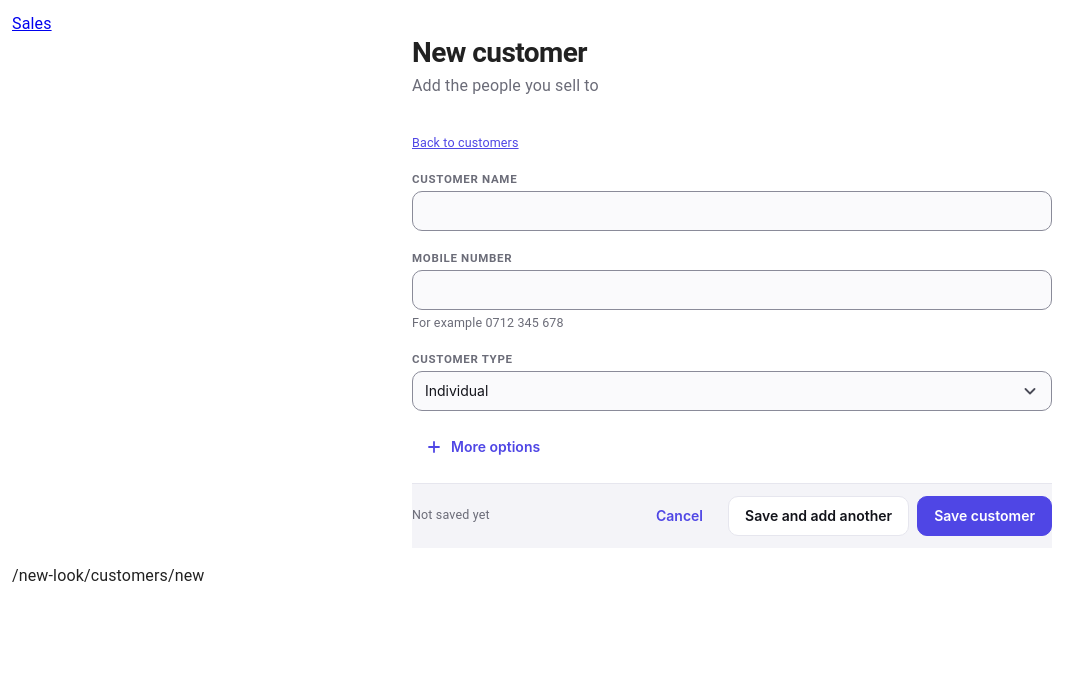
Test: what must be filled in › a mobile number that is not Kenyan is explained, with an example
Type "Amina Hassan" into the field labelled "Customer name". click: x=732, y=211
box: [413, 192, 1051, 230]
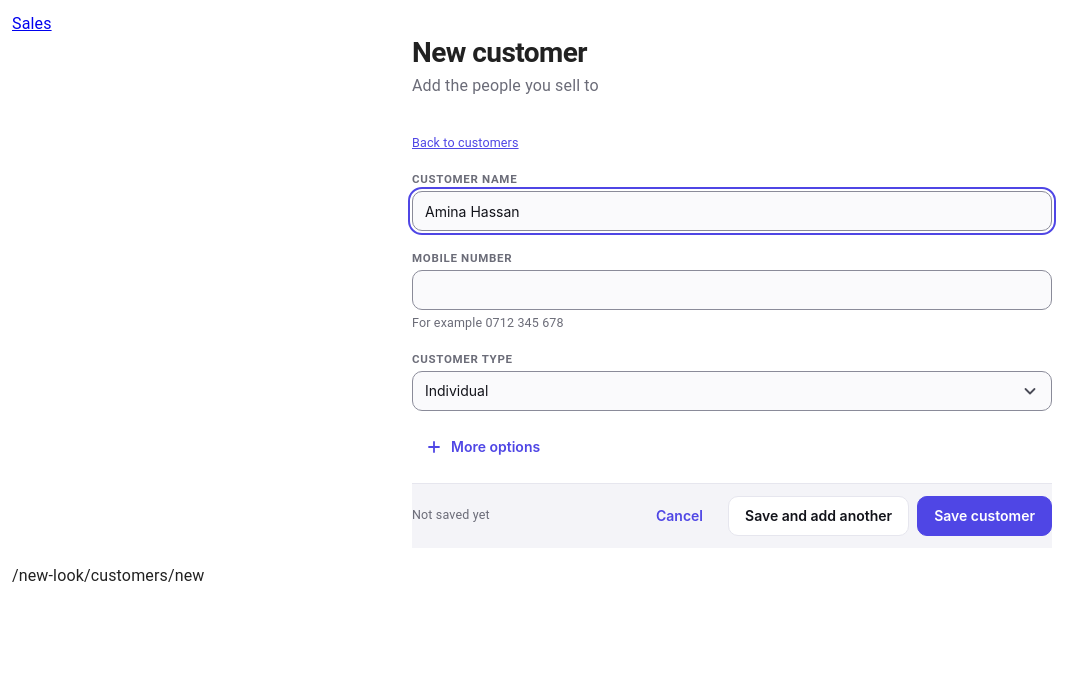
Type "0712 345 678" into the field labelled "Mobile number". click: x=732, y=290
box: [413, 271, 1051, 309]
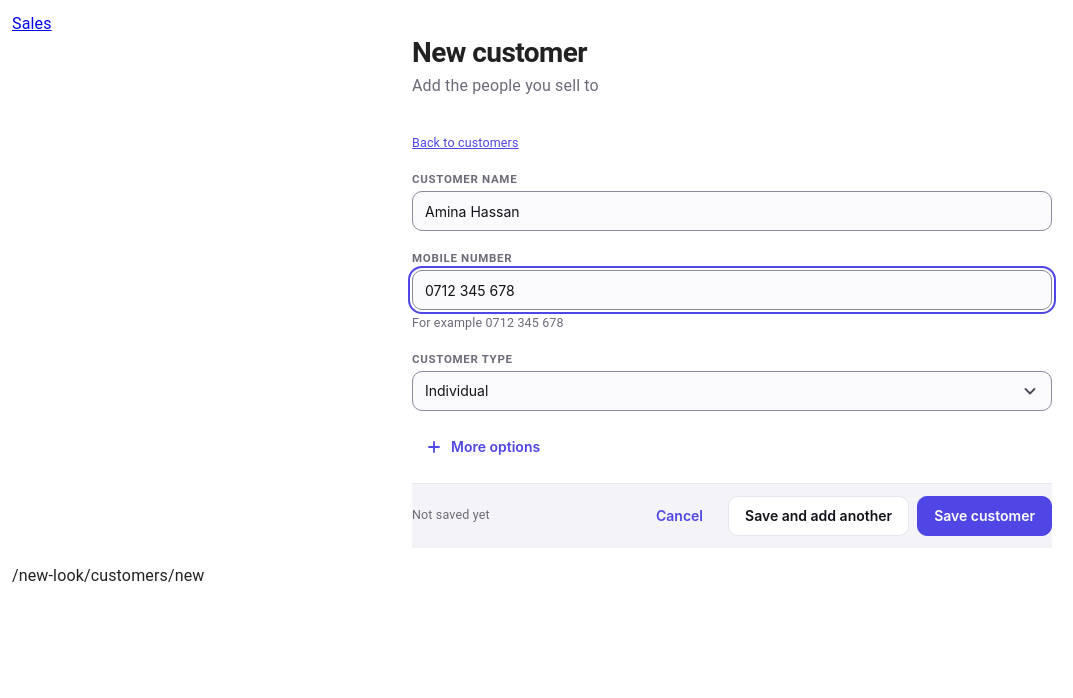
Replace the text in the field labelled "Mobile number" with "12345". click: x=732, y=290
box: [413, 271, 1051, 309]
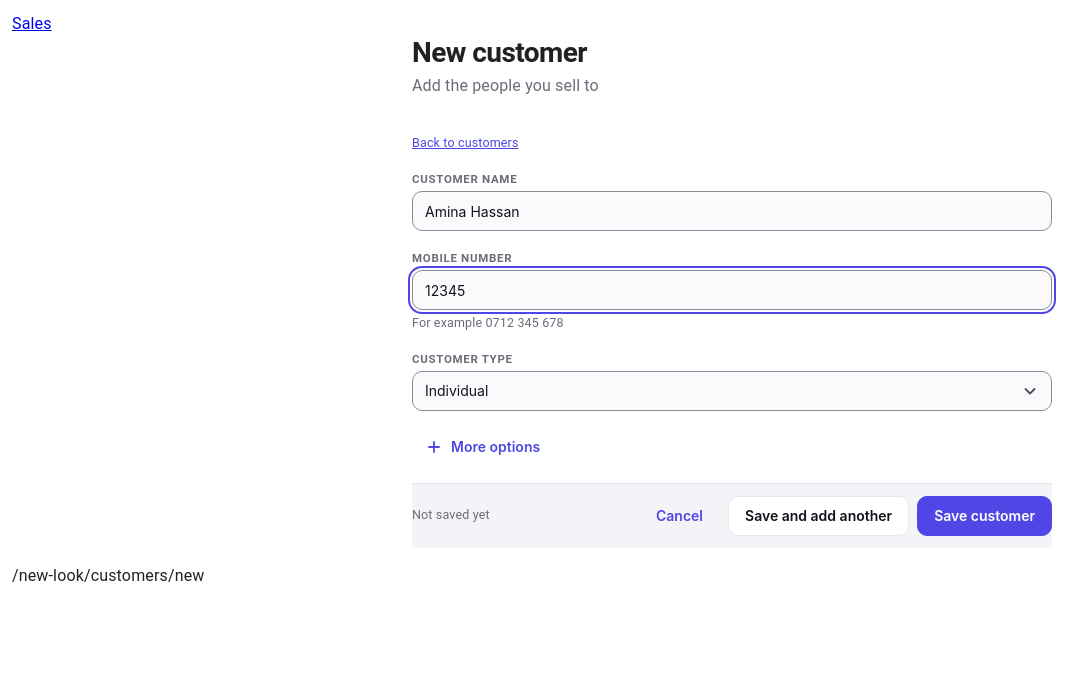
Click the button "Save customer". click: x=985, y=516
box: [917, 496, 1052, 536]
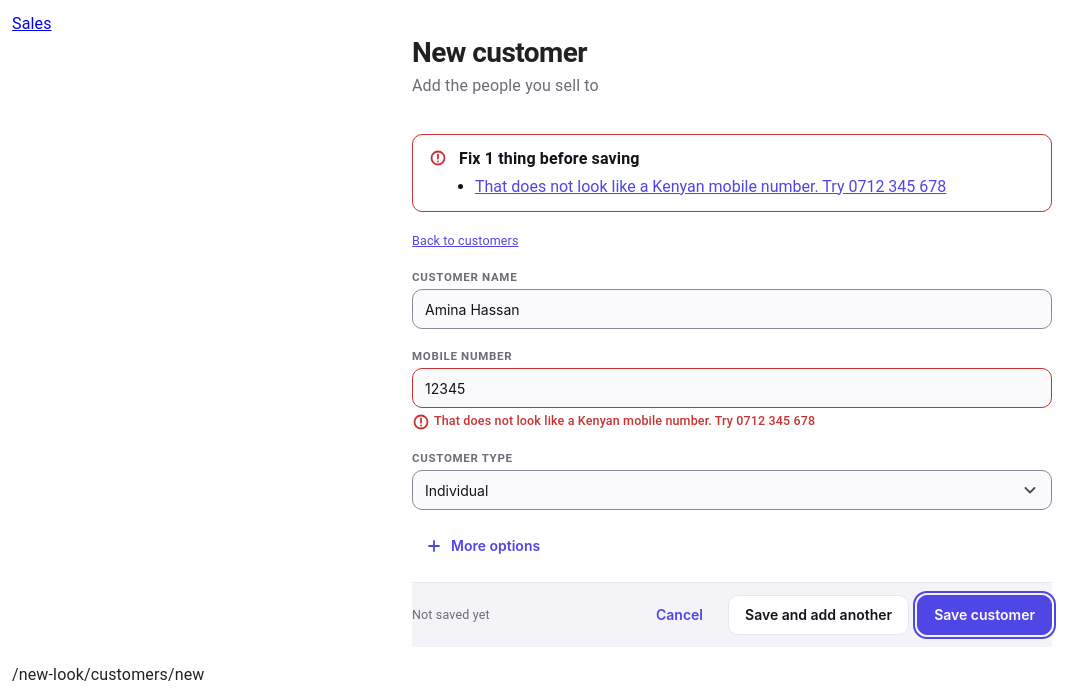
Check: the number of buttons "That does not look like a Kenyan mobile number. Try 0712 345 678" is 2, box [475, 175, 946, 199]; [434, 412, 815, 430]
